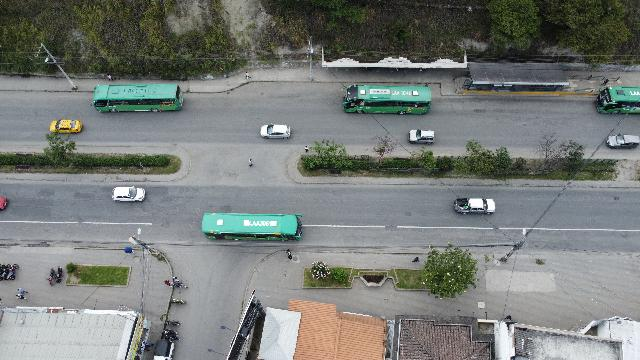Vehiculo: (454, 197, 496, 214), (112, 186, 146, 202), (606, 134, 640, 148), (260, 124, 290, 139), (50, 119, 82, 133), (408, 130, 434, 144), (1, 197, 8, 209)
